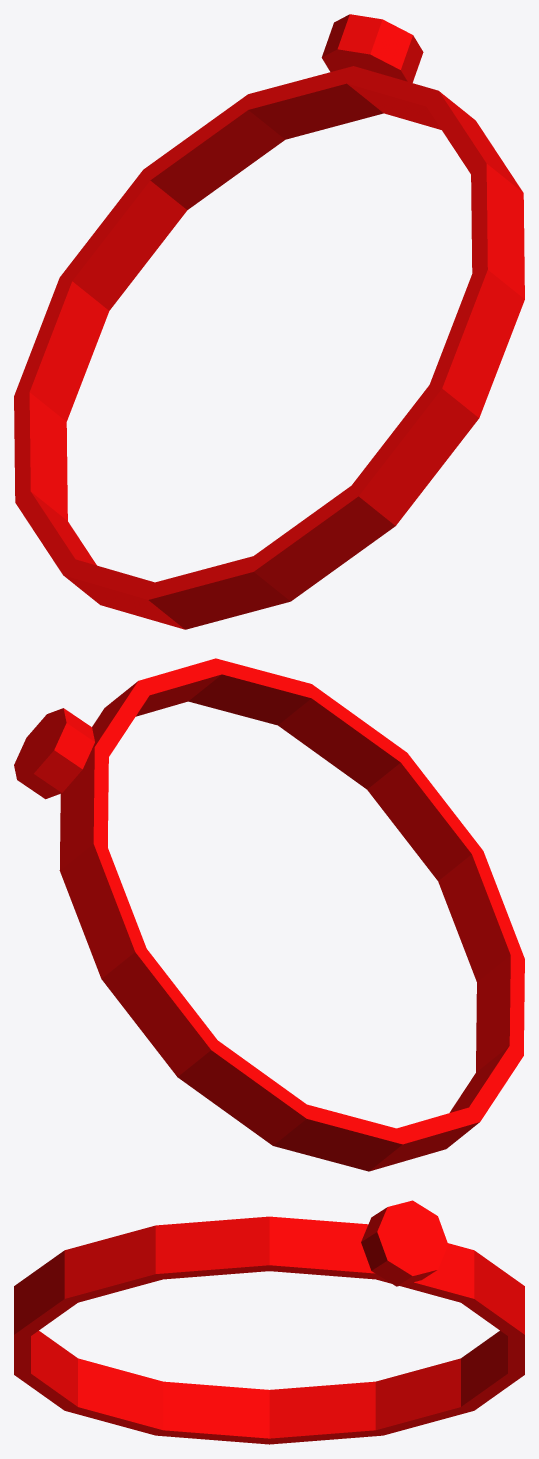
The model's file is wrist_bracelet_01.glb.
3 views of the same model, one above another, from view 1: azimuth 30°, elevation 25°; view 2: azimuth 150°, elevation 25°; view 3: azimuth 270°, elevation 25° (orthographic). The views are drawn at different scales.
Parts seen in each view (by area): view 1: wrist_bracelet_01; view 2: wrist_bracelet_01; view 3: wrist_bracelet_01.
Part boxes in pixels (bbox=[...]): wrist_bracelet_01: bbox=[14, 14, 524, 629]; wrist_bracelet_01: bbox=[14, 658, 524, 1171]; wrist_bracelet_01: bbox=[14, 1200, 524, 1444].
Bounding box in the file's own units: 0.0736 × 0.0736 × 0.0887.
1 material, 1 textured.
